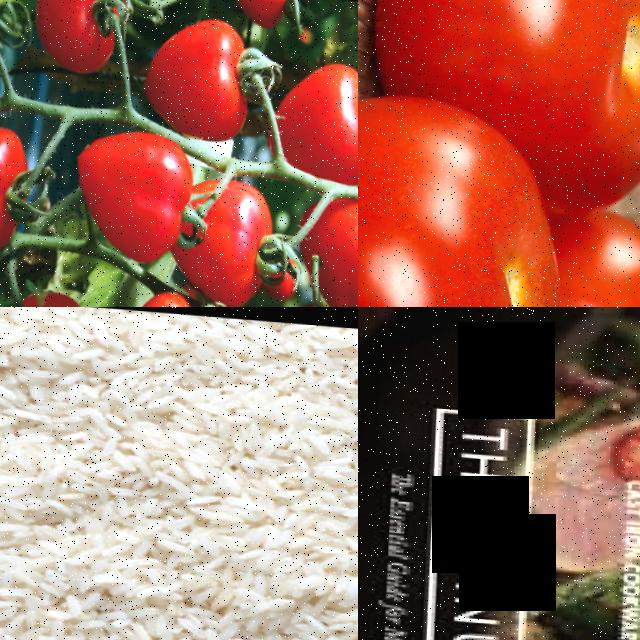tomato: (364, 0, 640, 216), (358, 74, 578, 307), (31, 0, 126, 76), (0, 121, 34, 254)
white rice: (0, 307, 358, 640)
